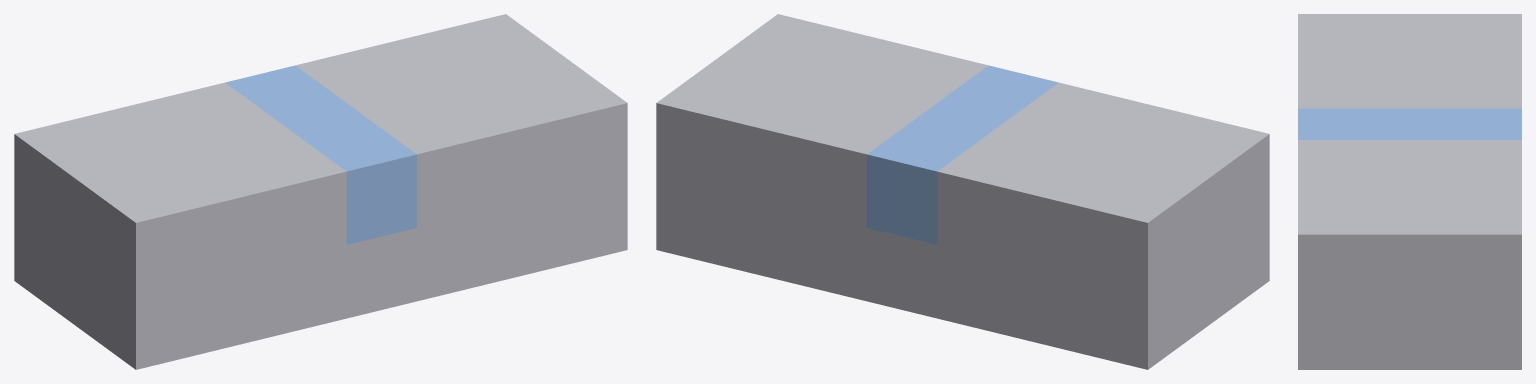
File: smoke_test.glb
3 renders of one model, left to right at view 1: azimuth 30°, elevation 25°; view 2: azimuth 150°, elevation 25°; view 3: azimuth 270°, elevation 25°, orthographic. The views are drawn at different scales.
Parts seen in each view (by area): view 1: silicon, sti_oxide; view 2: silicon, sti_oxide; view 3: silicon, sti_oxide.
Part boxes in pixels (left/top/right/bottom): silicon: left=14, top=14, right=627, bottom=369; sti_oxide: left=225, top=65, right=416, bottom=244; silicon: left=656, top=14, right=1269, bottom=369; sti_oxide: left=867, top=65, right=1058, bottom=244; silicon: left=1298, top=14, right=1521, bottom=369; sti_oxide: left=1298, top=108, right=1521, bottom=139.
Bounding box in the file's own units: 280 × 80 × 120.
